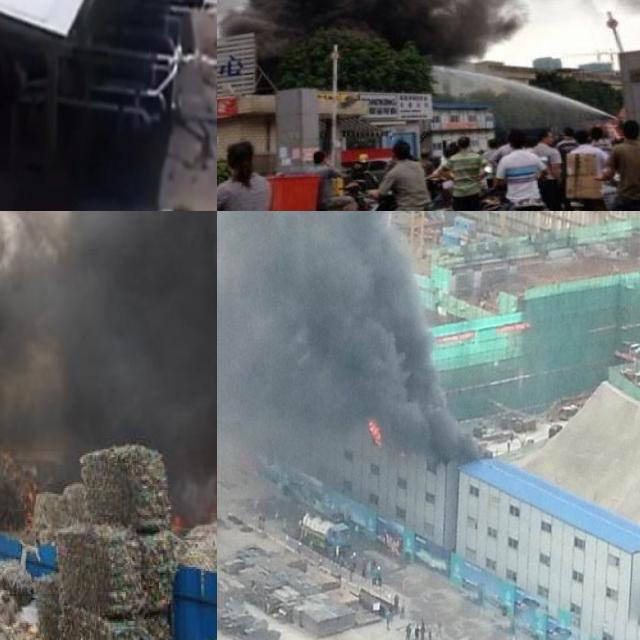fire: (366, 416, 382, 443)
smoke: (217, 211, 488, 462), (0, 211, 217, 501), (217, 0, 640, 64)
